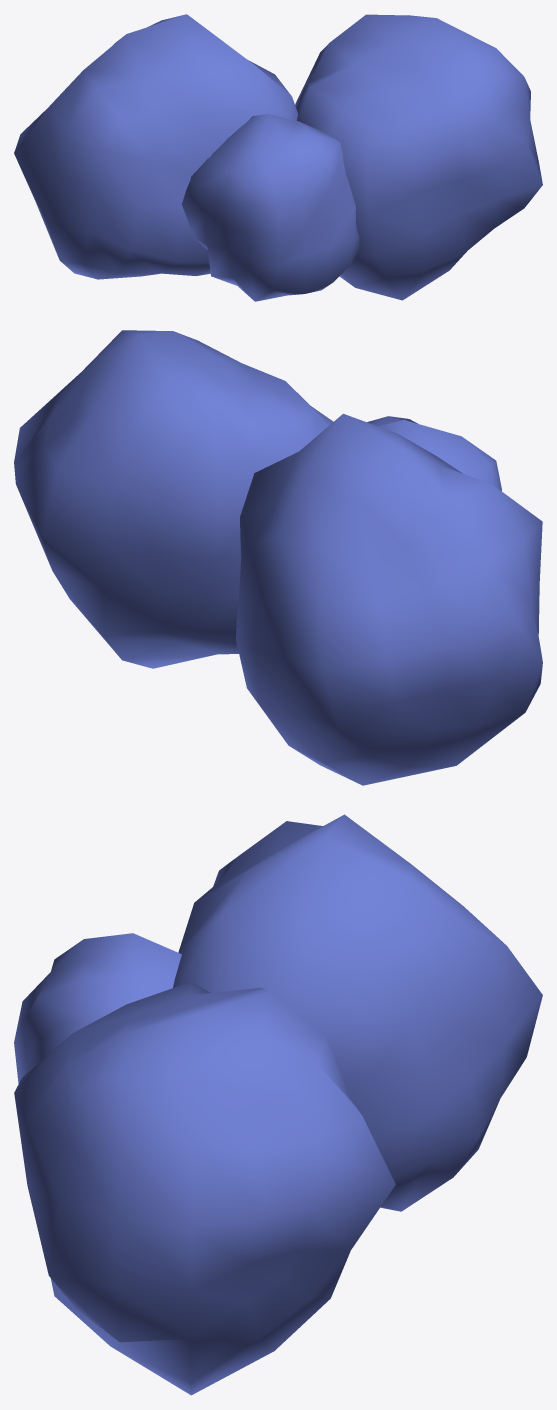
The model's file is BigRock.FBX.
3 renders of one model, top to bottom at view 1: azimuth 30°, elevation 25°; view 2: azimuth 150°, elevation 25°; view 3: azimuth 270°, elevation 25°, orthographic. The views are drawn at different scales.
Visible parts, largest first — view 1: LowPoly_Rock001; view 2: LowPoly_Rock001; view 3: LowPoly_Rock001.
Boxes of the visible parts, x1,y1,x2,y2 form: LowPoly_Rock001: (14,14,542,301); LowPoly_Rock001: (14,330,542,785); LowPoly_Rock001: (14,814,542,1395).
Size of the model in its own units: 304 by 180 by 206.
